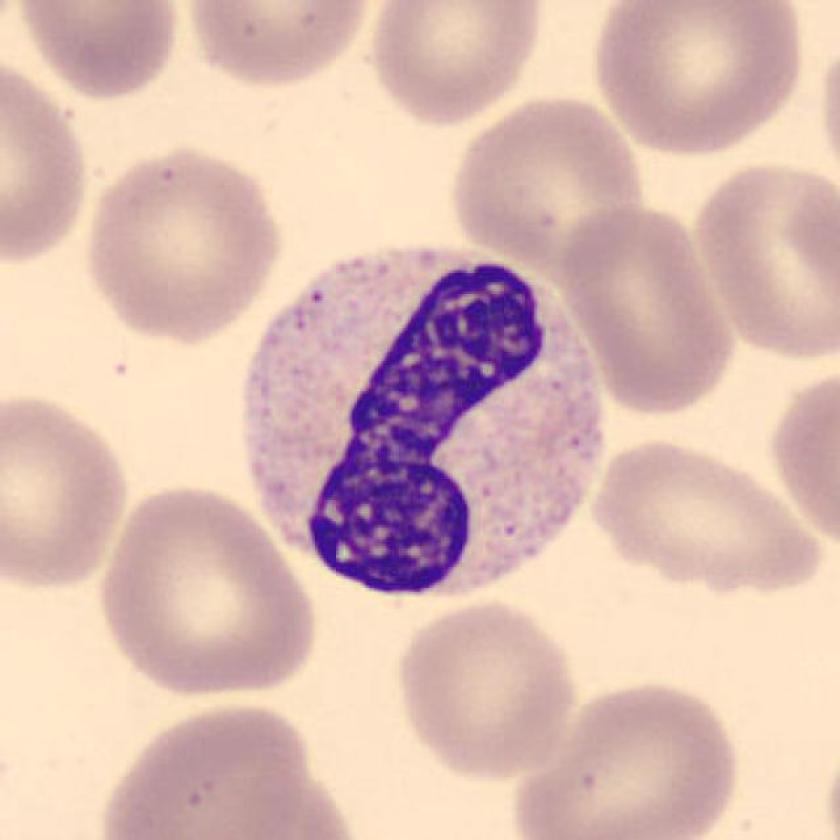neutrophil: (245, 247, 600, 595)
